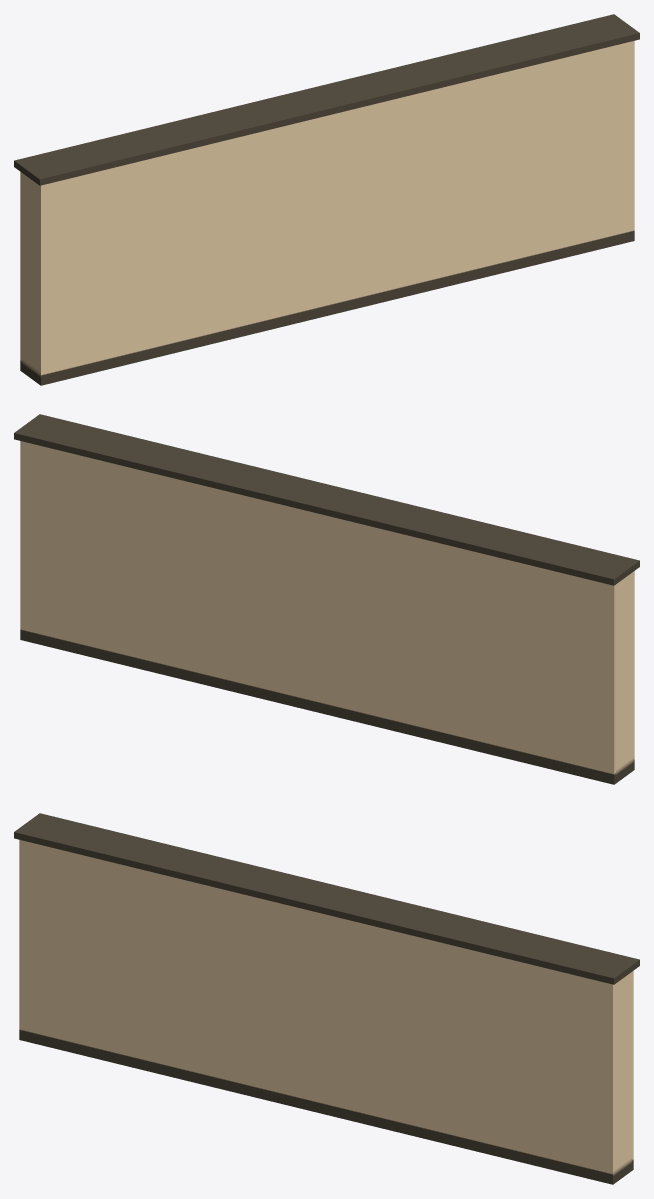
File: SM_Wall_Lego_01.FBX
3 views of the same model, one above another, from view 1: azimuth 30°, elevation 25°; view 2: azimuth 150°, elevation 25°; view 3: azimuth 330°, elevation 25° (orthographic).
Parts seen in each view (by area): view 1: SM_Wall_Lego_01; view 2: SM_Wall_Lego_01; view 3: SM_Wall_Lego_01.
Part boxes in pixels (x1=…): SM_Wall_Lego_01: x1=14, y1=14, x2=639, y2=385; SM_Wall_Lego_01: x1=14, y1=414, x2=639, y2=784; SM_Wall_Lego_01: x1=14, y1=813, x2=639, y2=1184.
Size of the model in its own units: 377 by 125 by 28.09.
